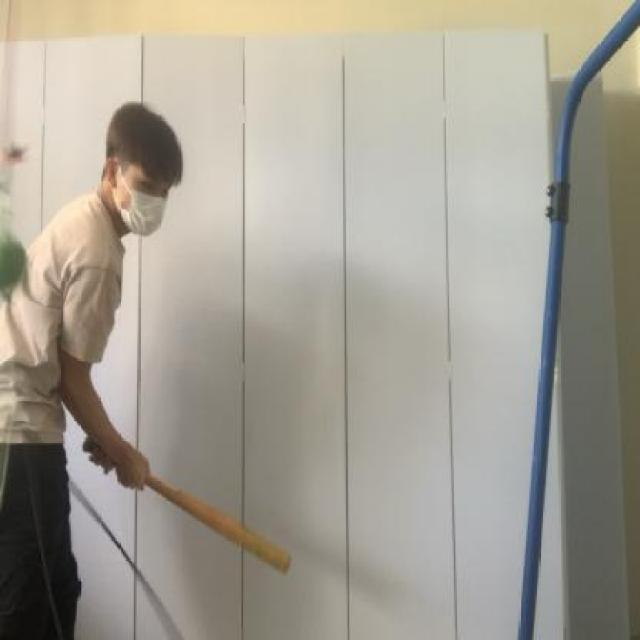baseball: (0, 221, 28, 301)
